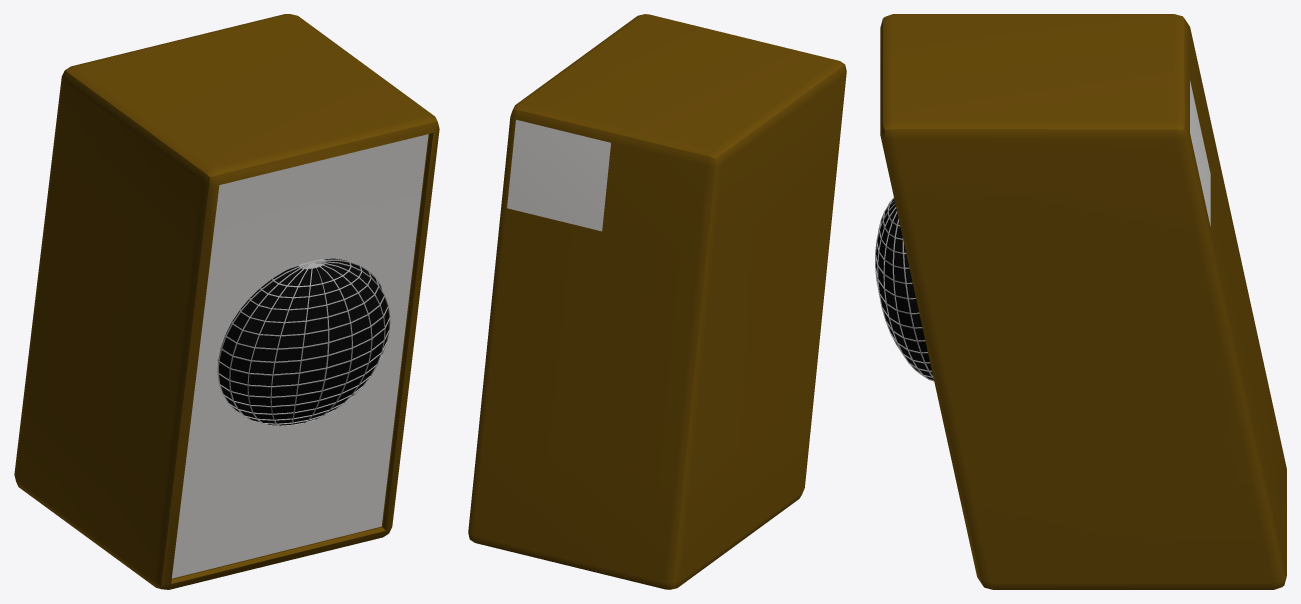
Rendered from PA_System.fbx.
3 renders of one model, left to right at view 1: azimuth 30°, elevation 25°; view 2: azimuth 150°, elevation 25°; view 3: azimuth 270°, elevation 25°, orthographic. The views are drawn at different scales.
Visible parts, largest first — view 1: Box, Speaker; view 2: Box; view 3: Box, Speaker.
Part boxes in pixels (x1,y1,x2,y2): Box: [14, 14, 439, 589]; Speaker: [217, 258, 390, 426]; Box: [468, 14, 846, 589]; Box: [880, 14, 1286, 589]; Speaker: [875, 197, 934, 381].
Bounding box in the file's own units: 6.78 × 12.5 × 9.96.
